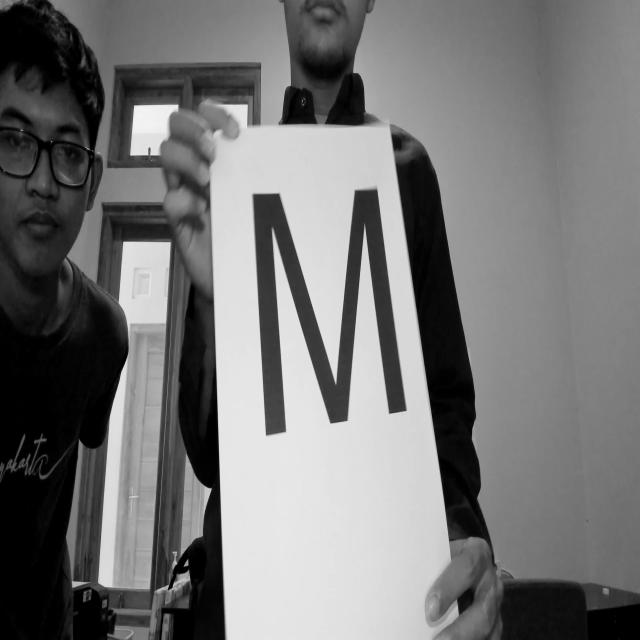m: (240, 170, 412, 449)
